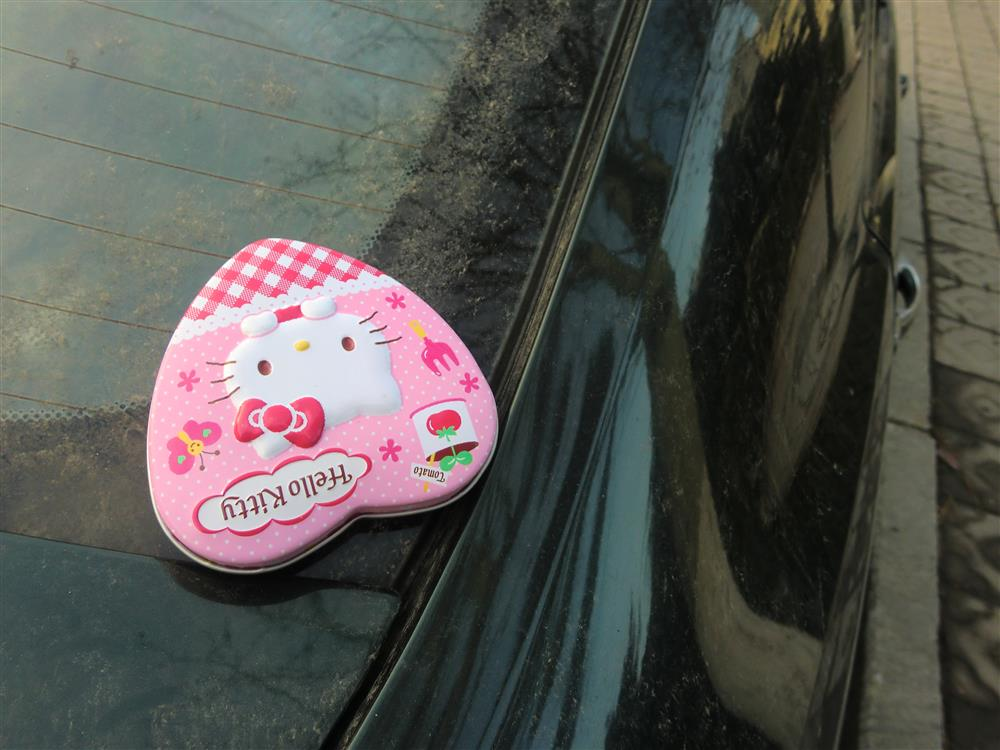hello_kitty: (136, 227, 512, 579)
